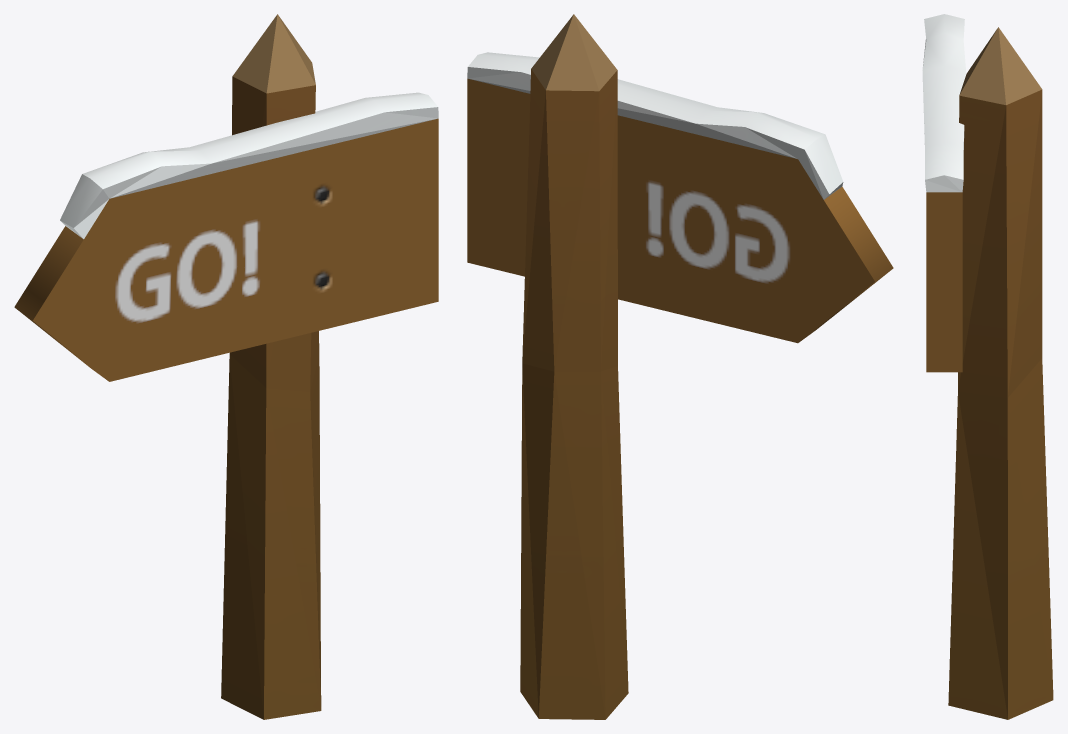
The model's file is HX-lubiao.FBX.
3 views of the same model, side by side, from view 1: azimuth 30°, elevation 25°; view 2: azimuth 150°, elevation 25°; view 3: azimuth 270°, elevation 25° (orthographic). The views are drawn at different scales.
Parts seen in each view (by area): view 1: lubiao; view 2: lubiao; view 3: lubiao.
Boxes of the visible parts, <box> form: lubiao: <box>14,14,438,719</box>; lubiao: <box>467,14,893,719</box>; lubiao: <box>922,14,1053,719</box>.
Bounding box in the file's own units: 622 × 1000 × 177.
